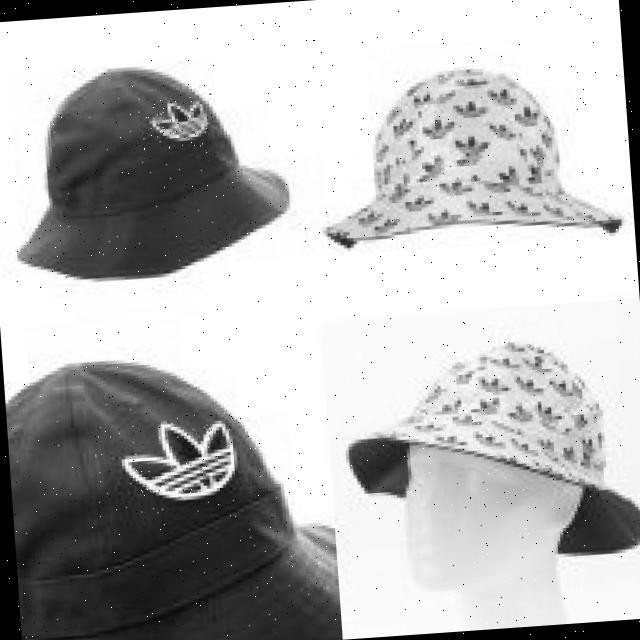Adidas: (93, 409, 247, 525), (138, 93, 215, 152)
